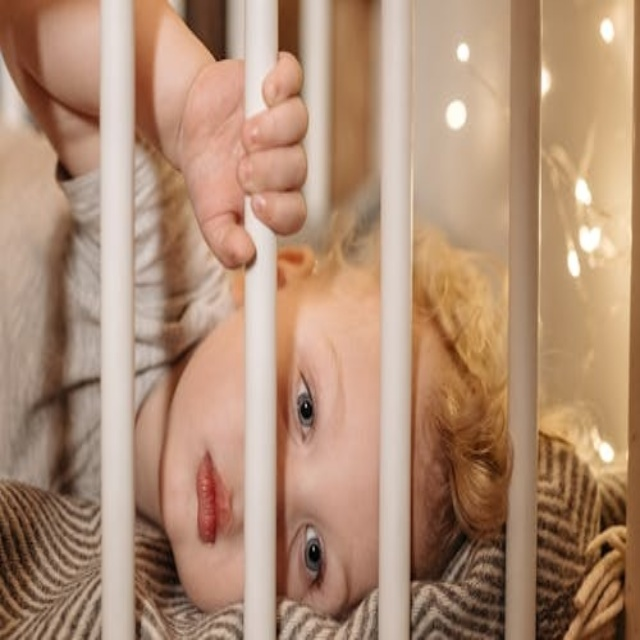Sin_guantes: (176, 38, 312, 272)
Sin_mascara: (186, 435, 225, 560)
